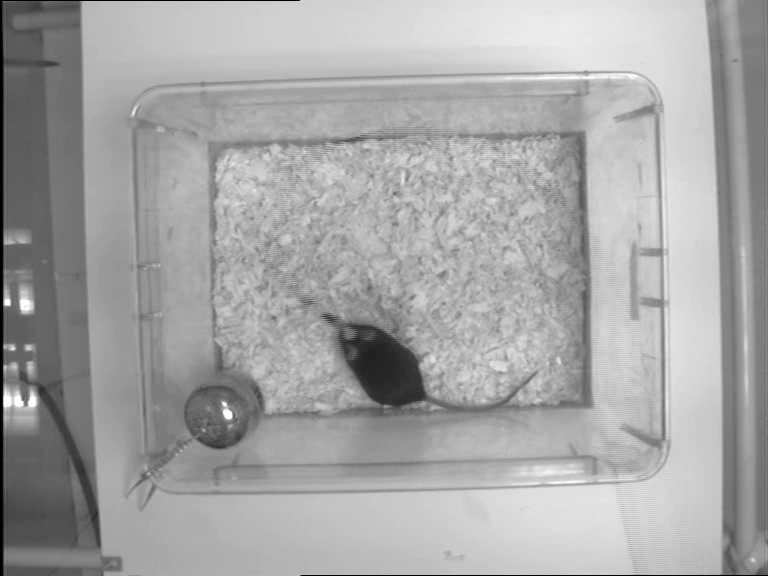mice: (330, 318, 541, 414)
